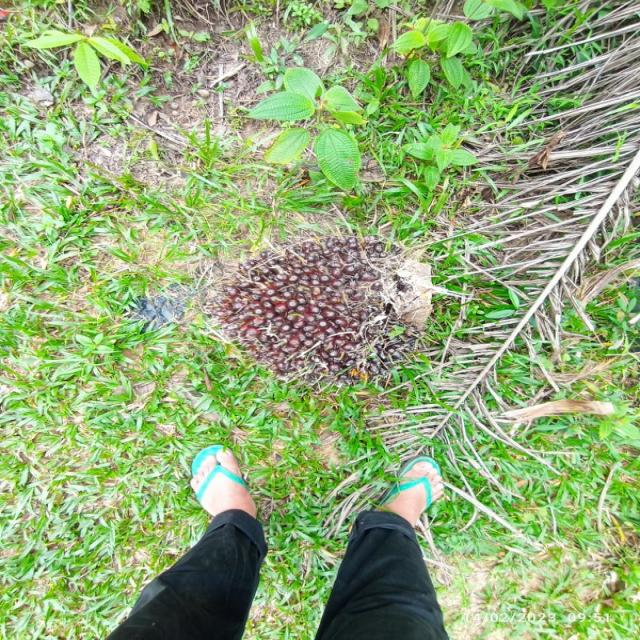fraksi 1: (173, 208, 486, 421)
